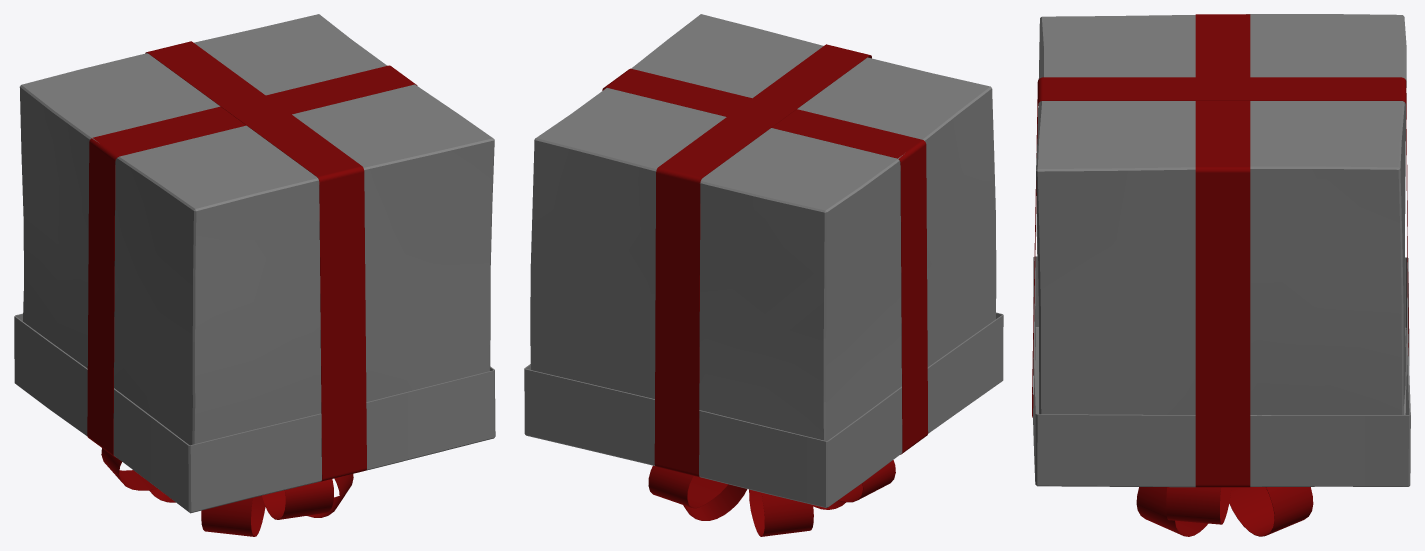
Rendered from C1_Gift_02.FBX.
The picture shows the model from 3 angles, left to right: view 1: azimuth 30°, elevation 25°; view 2: azimuth 150°, elevation 25°; view 3: azimuth 270°, elevation 25°; orthographic projection. The views are drawn at different scales.
Parts seen in each view (by area): view 1: gift; view 2: gift; view 3: gift.
Part boxes in pixels (<box>): gift: <box>14,14,495,536</box>; gift: <box>524,14,1003,536</box>; gift: <box>1032,14,1410,536</box>.
Size of the model in its own units: 20.82 by 25.46 by 20.79.
